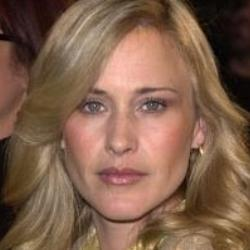face: (4, 2, 249, 242)
